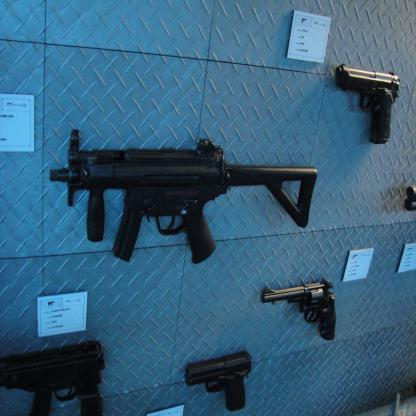Handgun: (335, 63, 400, 144), (262, 278, 335, 341), (185, 350, 250, 412)
